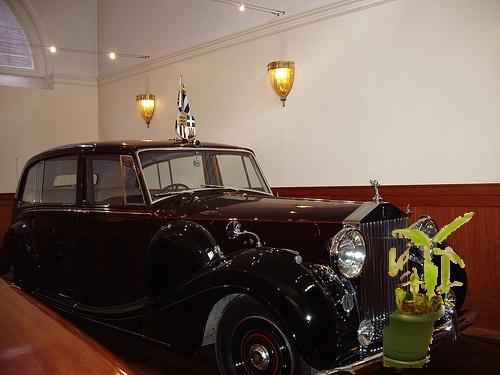tampered: (185, 213, 475, 368)
